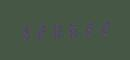six: (66, 19, 81, 39)
three: (17, 22, 32, 41)
two: (33, 21, 48, 40), (82, 19, 97, 38), (98, 18, 113, 37)
zero: (50, 20, 65, 39)
